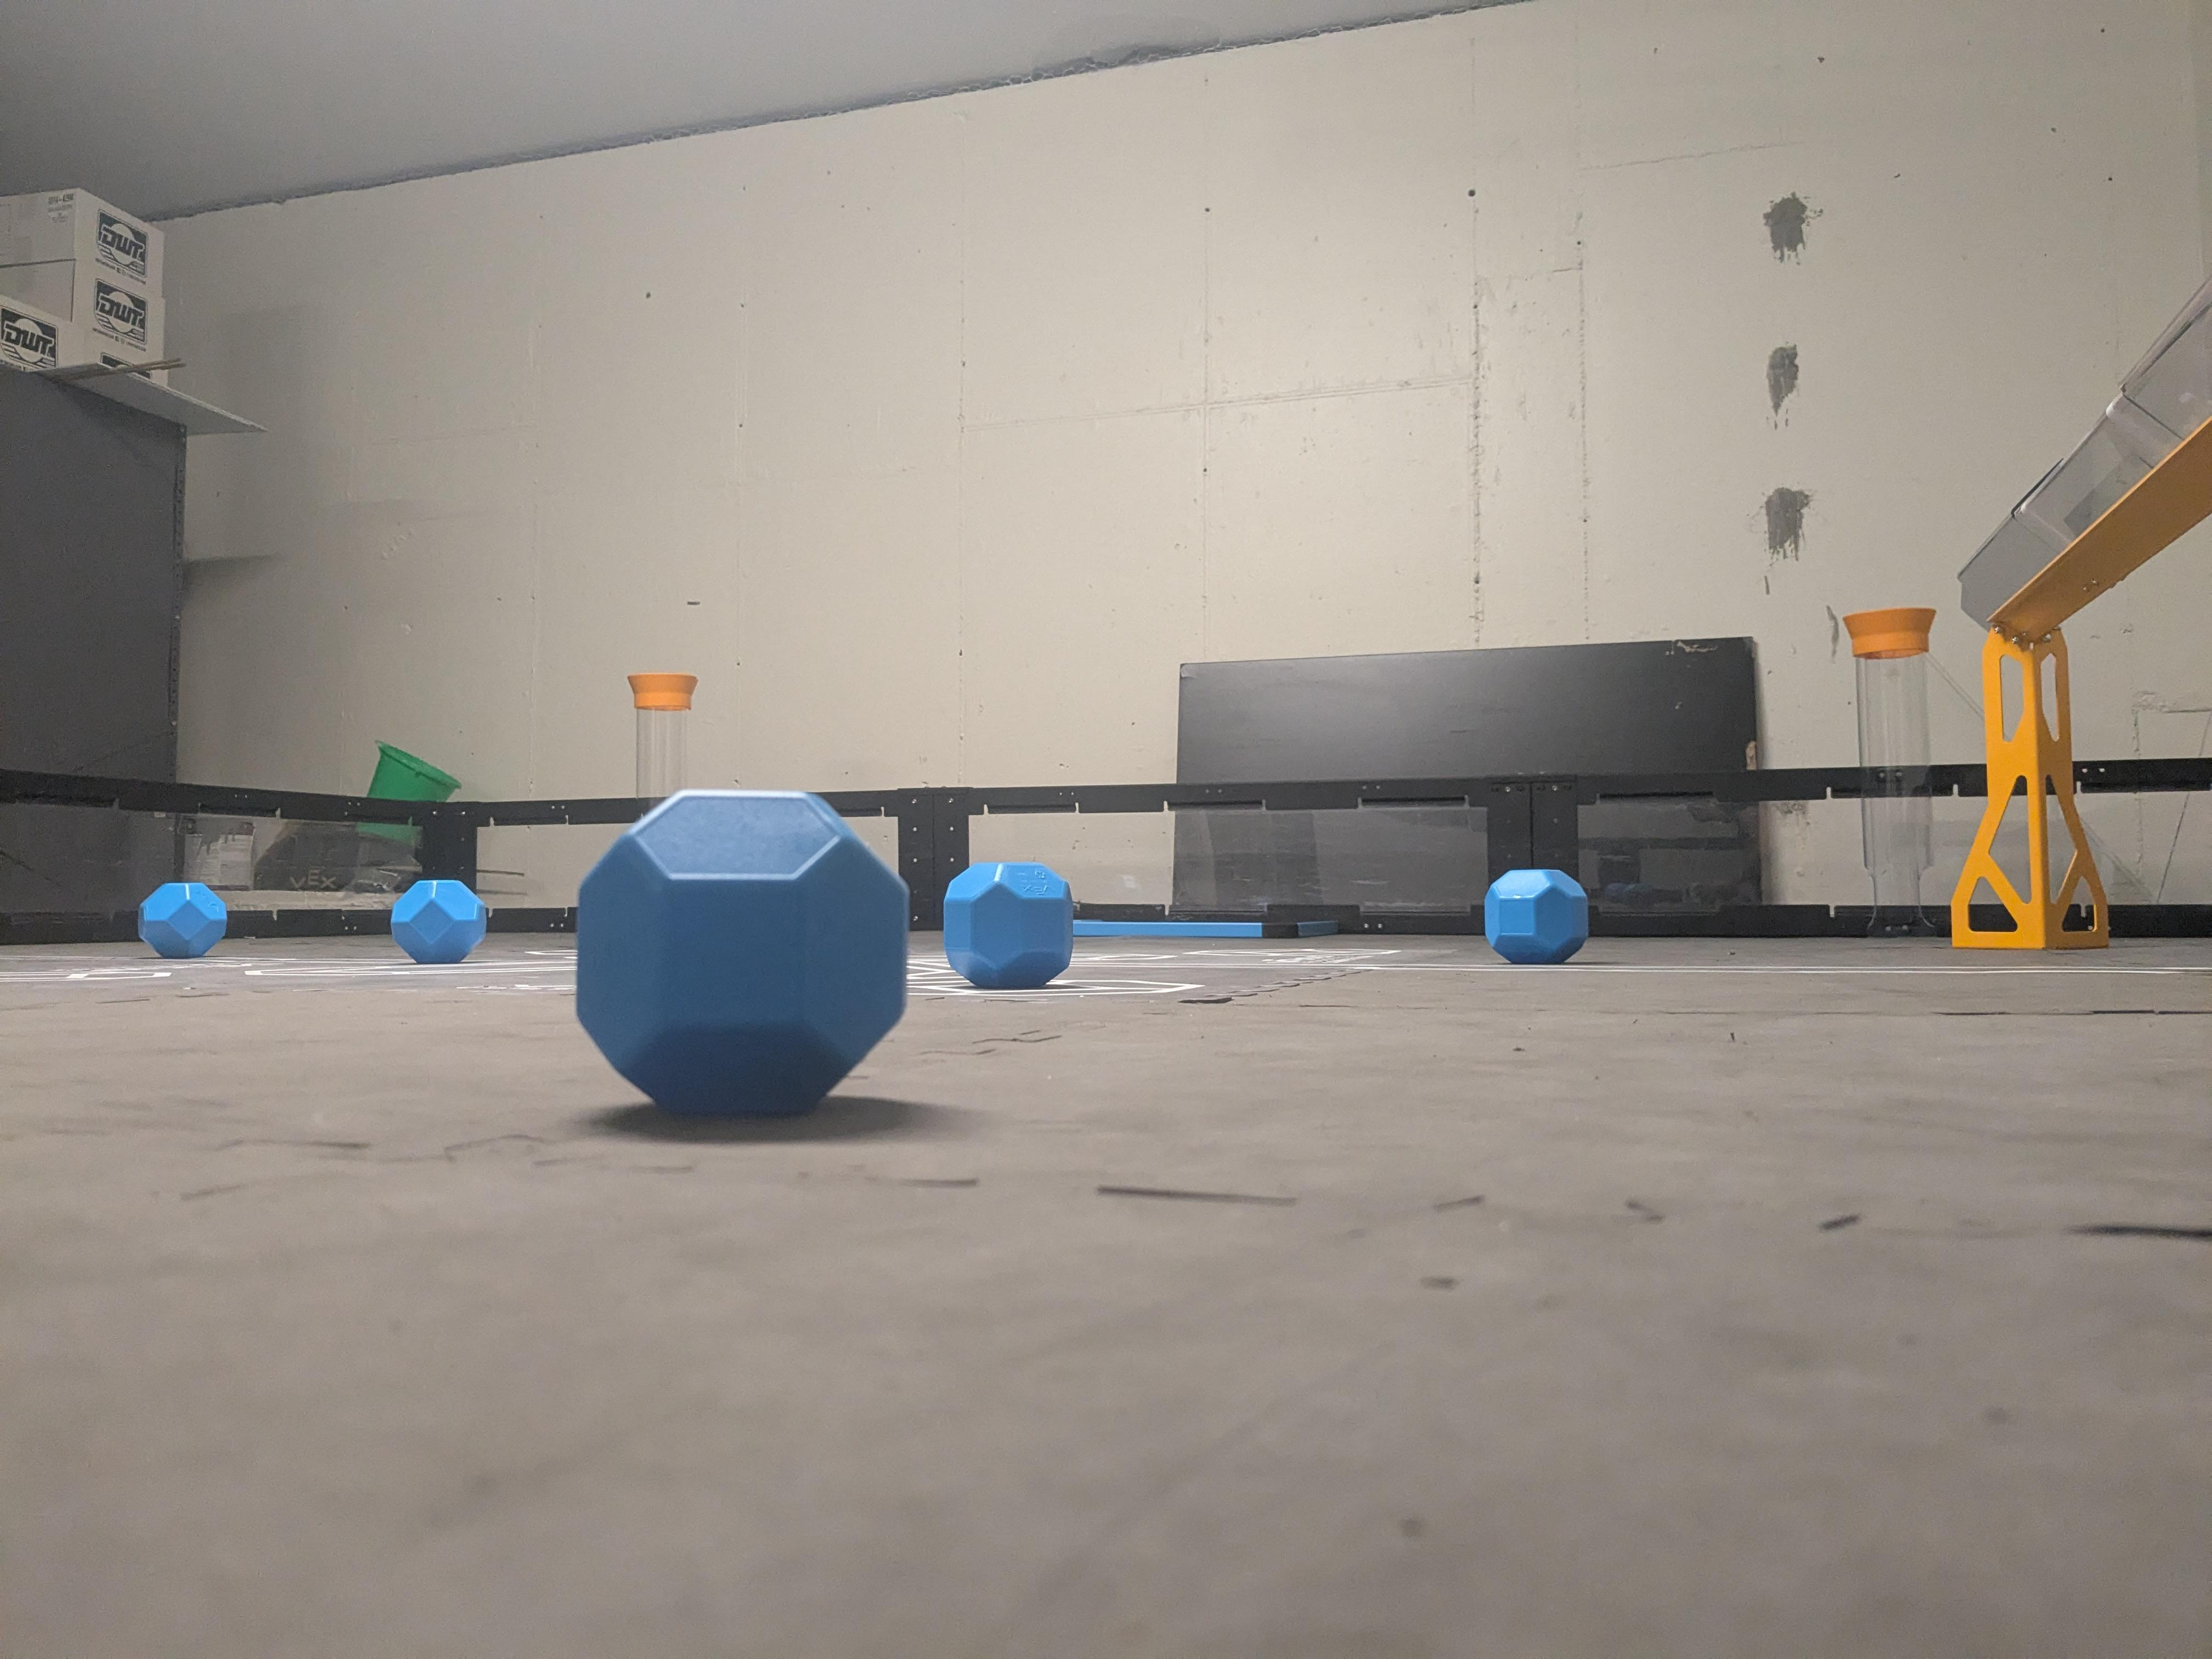Vex-Pieces-BLUE: (583, 793, 906, 1119), (942, 863, 1073, 990), (1482, 868, 1585, 962), (390, 880, 479, 964), (138, 884, 228, 957)
